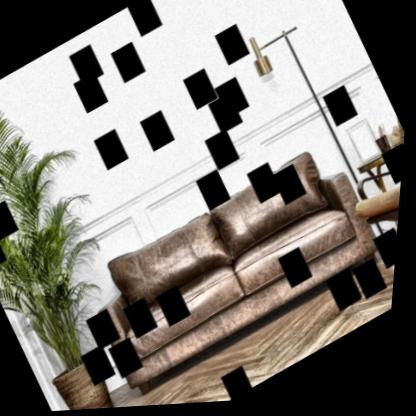Sofa: (80, 145, 392, 399)
Wooden floor: (113, 272, 399, 410)
